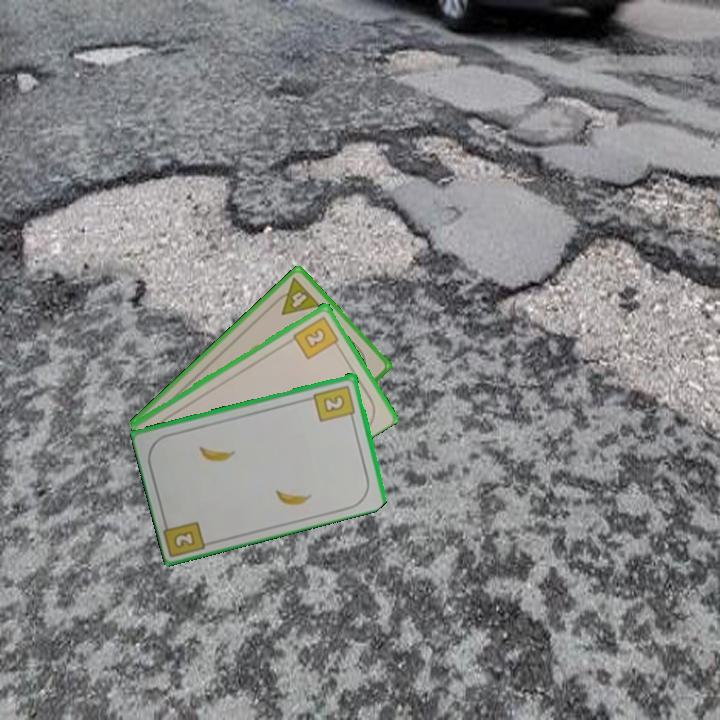2b: (290, 313, 343, 362), (310, 381, 358, 424), (170, 527, 198, 551)
4p: (269, 274, 323, 318)
